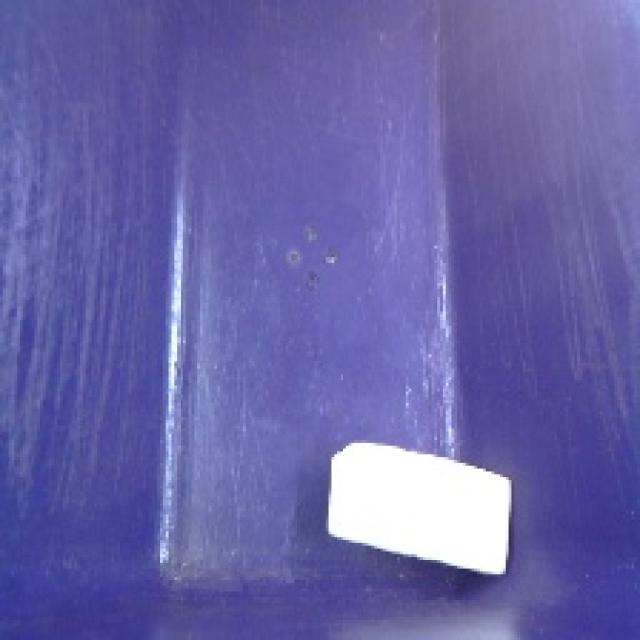white_radish: (321, 434, 519, 582)
